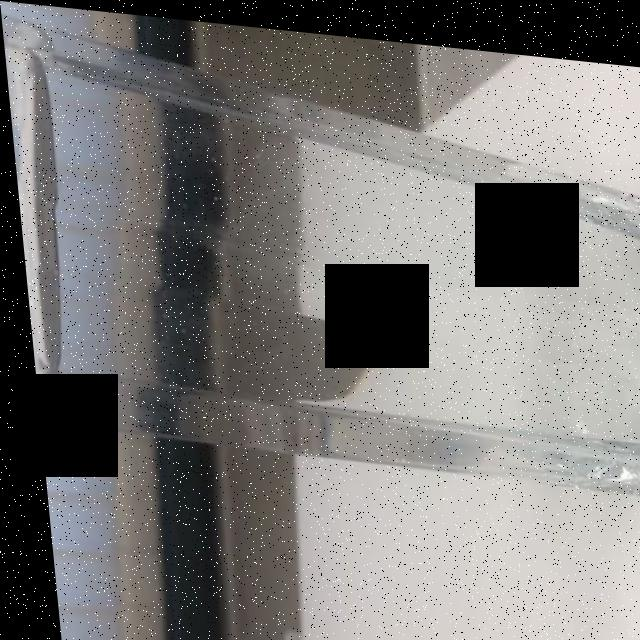water: (35, 18, 640, 489), (37, 38, 640, 501), (33, 18, 640, 471), (24, 46, 640, 483), (34, 40, 640, 472), (41, 42, 640, 476), (51, 27, 640, 467)
